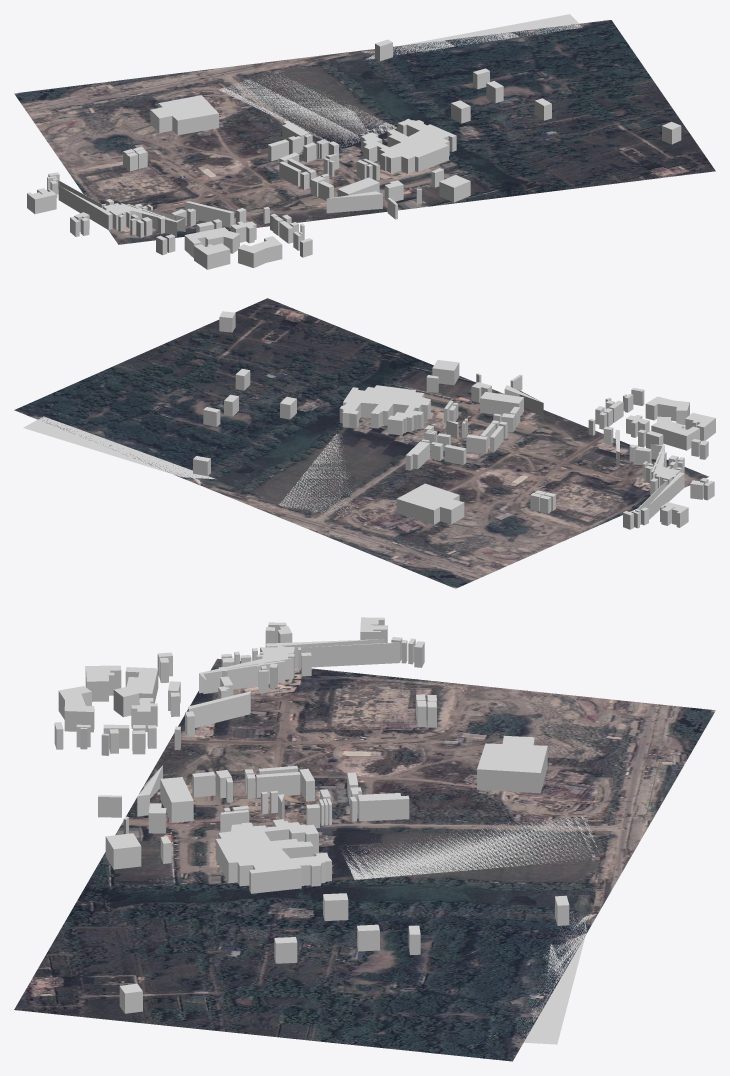
Rendered from map2.glb.
3 renders of one model, top to bottom at view 1: azimuth 30°, elevation 25°; view 2: azimuth 150°, elevation 25°; view 3: azimuth 270°, elevation 25°, orthographic. The views are drawn at different scales.
Parts seen in each view (by area): view 1: EXPORT_GOOGLE_SAT_WM, Areas:building, Areas:leisure; view 2: EXPORT_GOOGLE_SAT_WM, Areas:building, Areas:leisure; view 3: EXPORT_GOOGLE_SAT_WM, Areas:building, Areas:leisure, Areas:highway.
Boxes of the visible parts, x1=… form: EXPORT_GOOGLE_SAT_WM: x1=14, y1=20, x2=715, y2=244; Areas:building: x1=27, y1=39, x2=681, y2=269; Areas:leisure: x1=219, y1=14, x2=582, y2=148; EXPORT_GOOGLE_SAT_WM: x1=14, y1=298, x2=708, y2=588; Areas:building: x1=193, y1=311, x2=715, y2=529; Areas:leisure: x1=23, y1=416, x2=355, y2=516; EXPORT_GOOGLE_SAT_WM: x1=14, y1=658, x2=715, y2=1061; Areas:building: x1=54, y1=617, x2=569, y2=1013; Areas:leisure: x1=342, y1=816, x2=598, y2=1044; Areas:highway: x1=524, y1=914, x2=596, y2=1038.
Size of what is drawn, in the model's own units: 896 by 20 by 627.
Materials: 1 (1 with a texture image).
